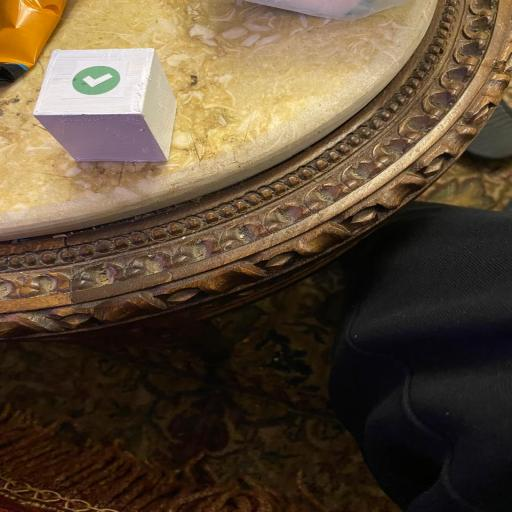Confirm: (33, 49, 178, 163)
